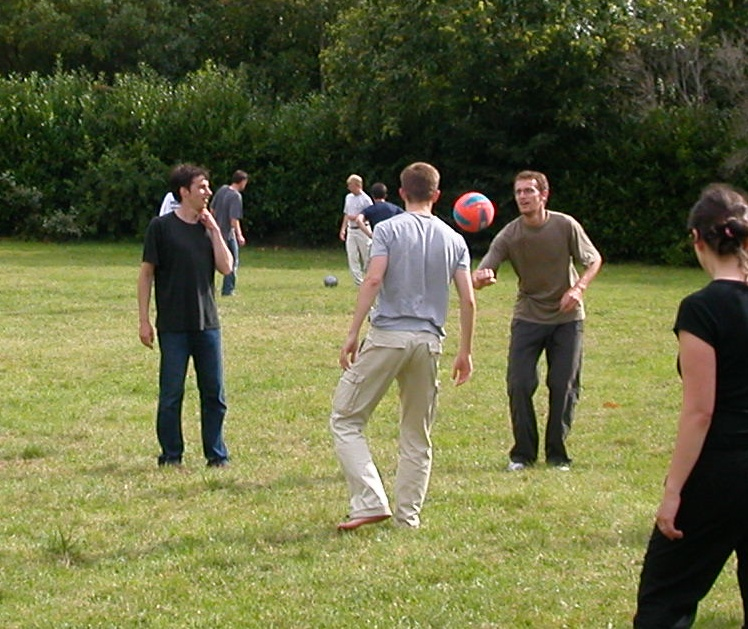person: (328, 162, 474, 541), (470, 167, 601, 474), (136, 164, 237, 466)
